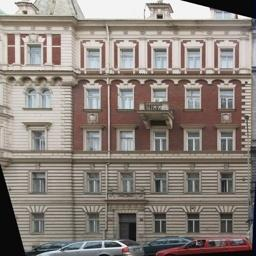building: (0, 11, 256, 242)
